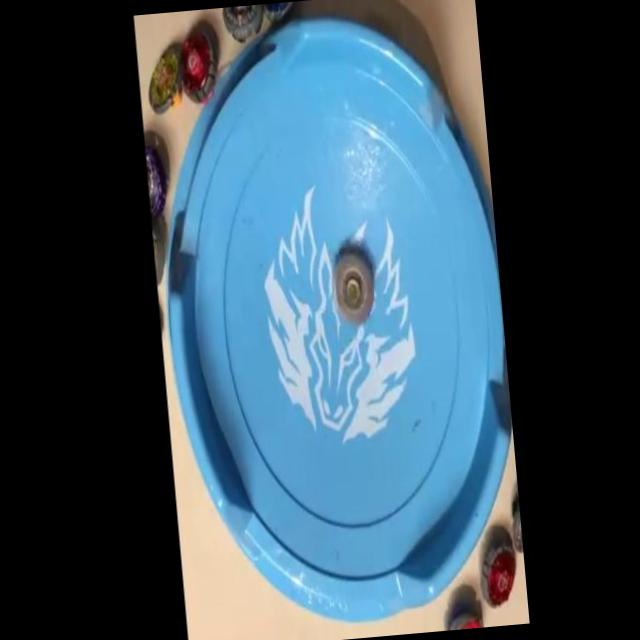Beyblade: (330, 247, 376, 325), (176, 28, 220, 102), (476, 536, 520, 610), (145, 46, 184, 116)
